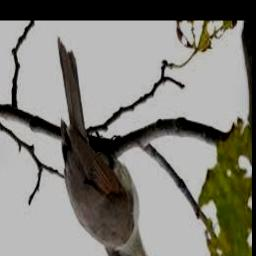Cuckoo: (58, 39, 163, 256)
